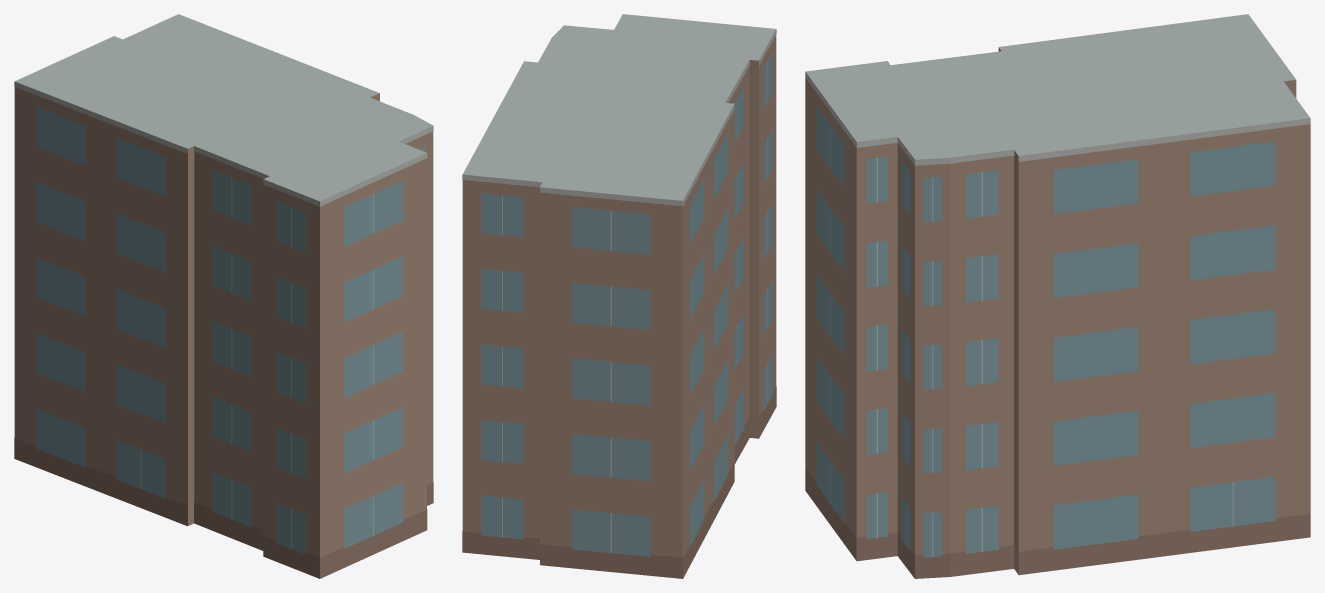
The model's file is survey-upis-32573764.glb.
3 renders of one model, left to right at view 1: azimuth 30°, elevation 25°; view 2: azimuth 150°, elevation 25°; view 3: azimuth 270°, elevation 25°, orthographic. The views are drawn at different scales.
Visible parts, largest first — view 1: survey-upis-32573764.tmp; view 2: survey-upis-32573764.tmp; view 3: survey-upis-32573764.tmp.
Part boxes in pixels (box(x1,y1,x2,y2)): survey-upis-32573764.tmp: box(14, 14, 433, 578); survey-upis-32573764.tmp: box(462, 14, 776, 578); survey-upis-32573764.tmp: box(805, 14, 1310, 578).
Bounding box in the file's own units: 12.91 × 17.3 × 18.91.
